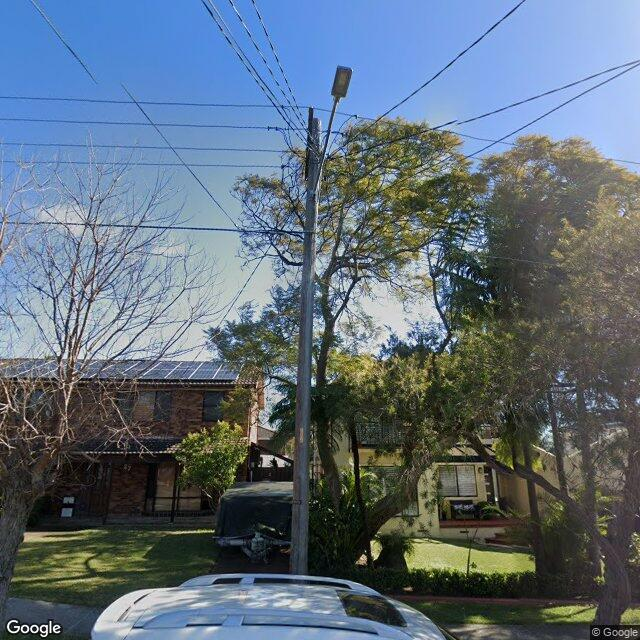crossarm: (302, 107, 316, 181)
streetlight: (314, 64, 354, 196)
timber-pole: (290, 118, 319, 572)
